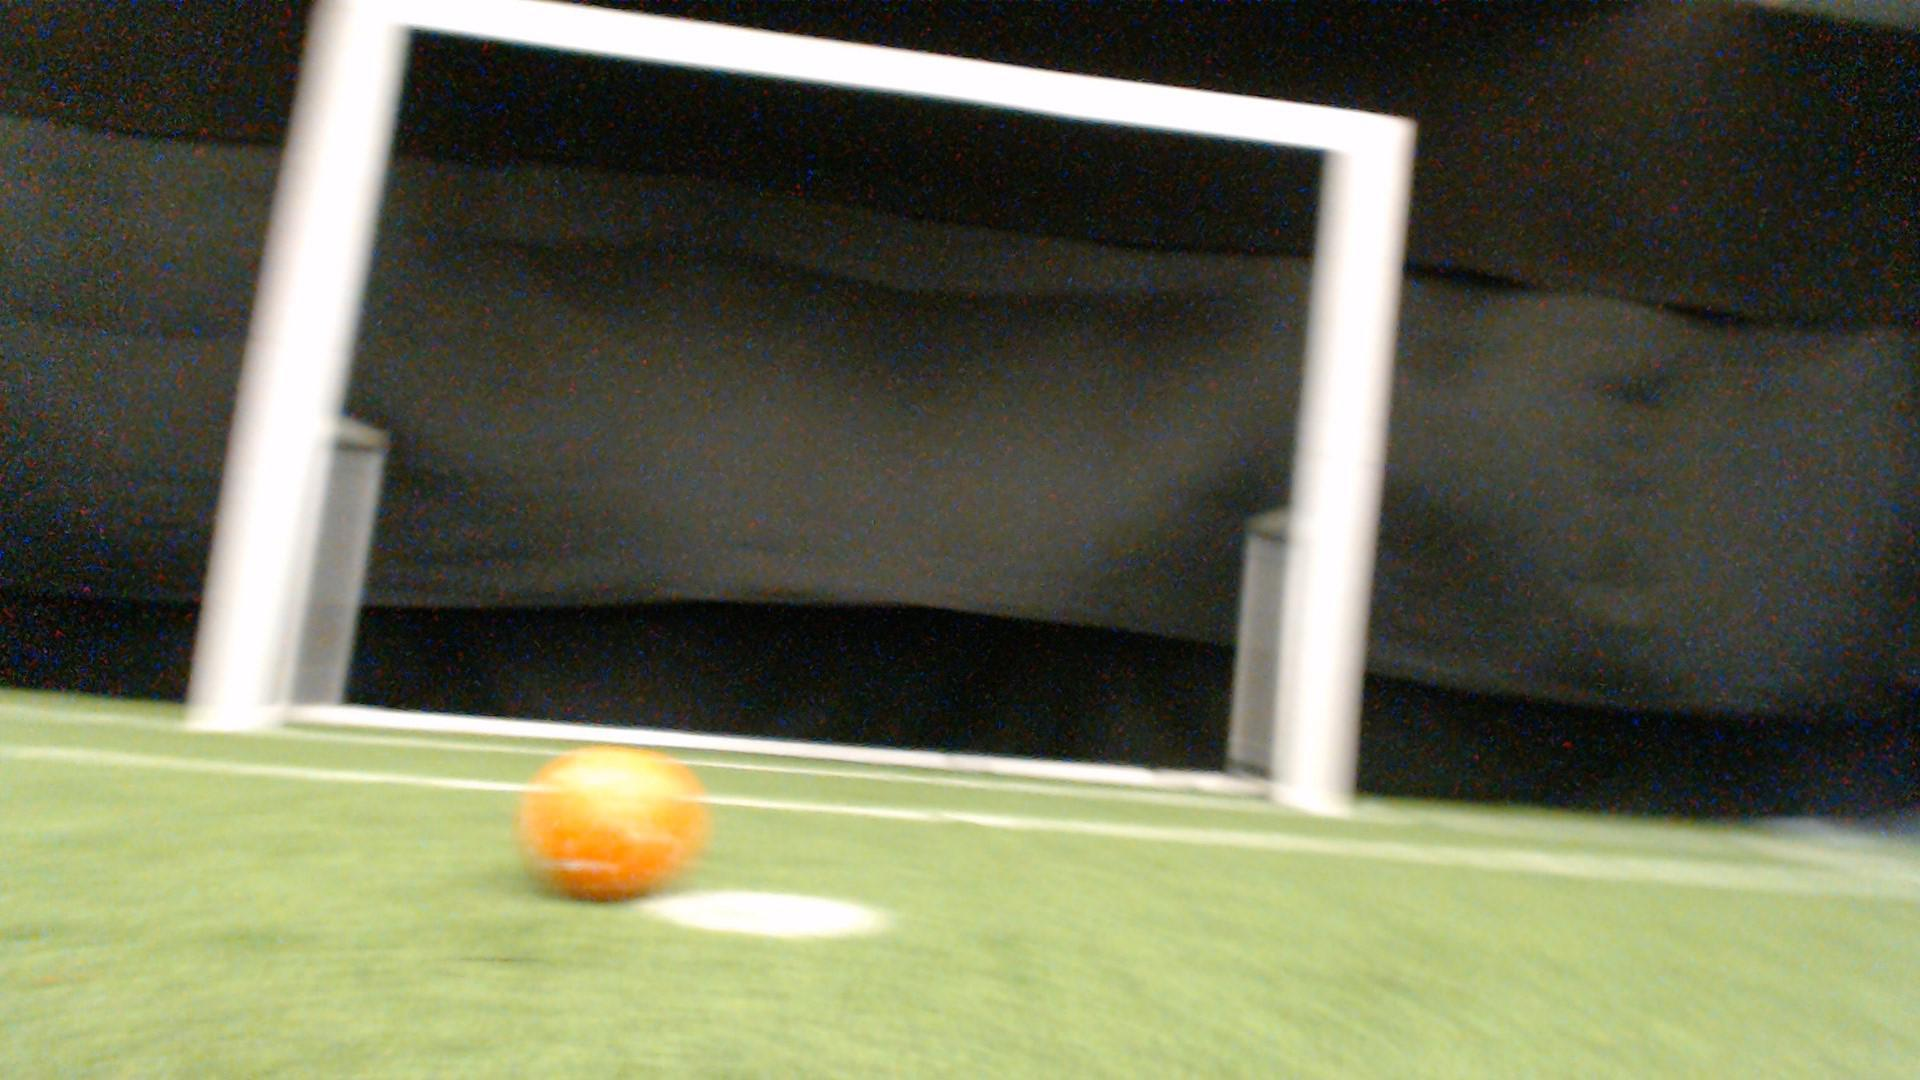bola: (508, 729, 725, 928)
